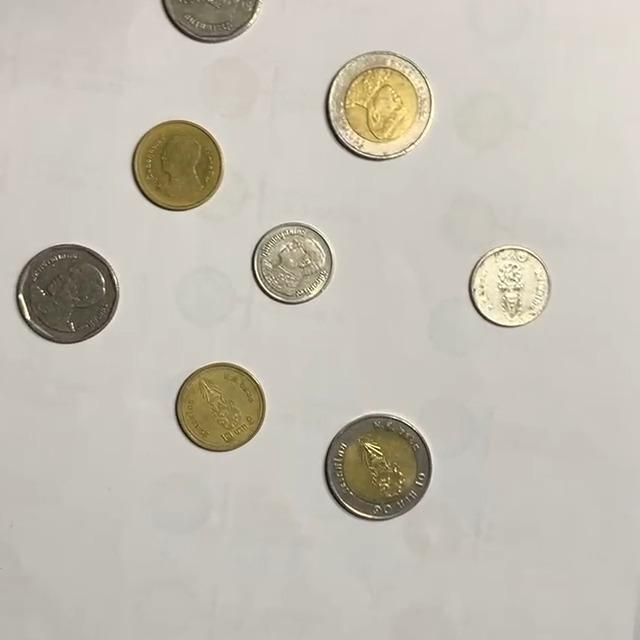1-baht: (470, 245, 554, 328), (253, 223, 334, 304)
10-baht: (327, 51, 435, 160), (325, 415, 433, 521)
2-baht: (132, 119, 225, 211), (175, 363, 267, 452)
5-baht: (16, 243, 121, 344), (161, 0, 264, 43)
